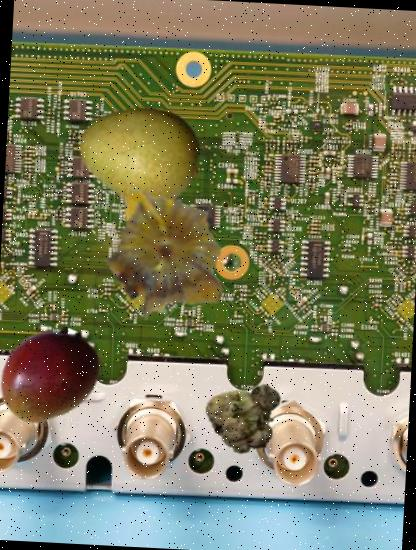Cauliflower: (208, 374, 289, 454)
Mango: (0, 321, 105, 431)
Pear: (74, 88, 204, 219)
Physalis: (92, 176, 242, 326)
